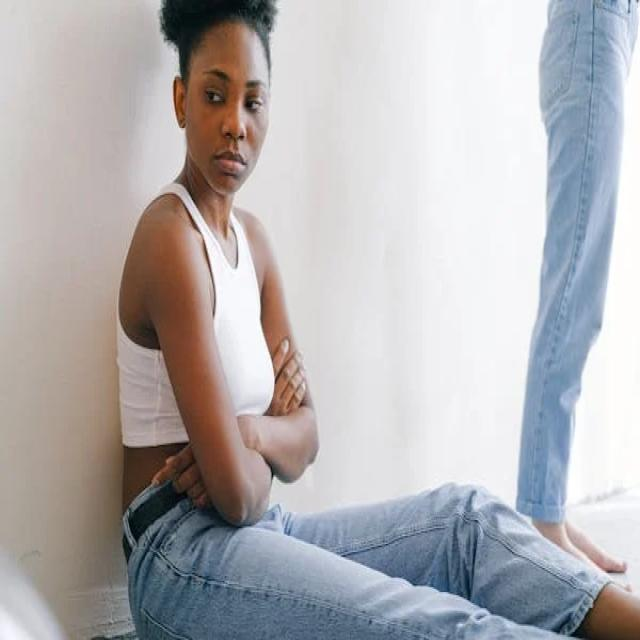Real human 2: (104, 0, 573, 640)
